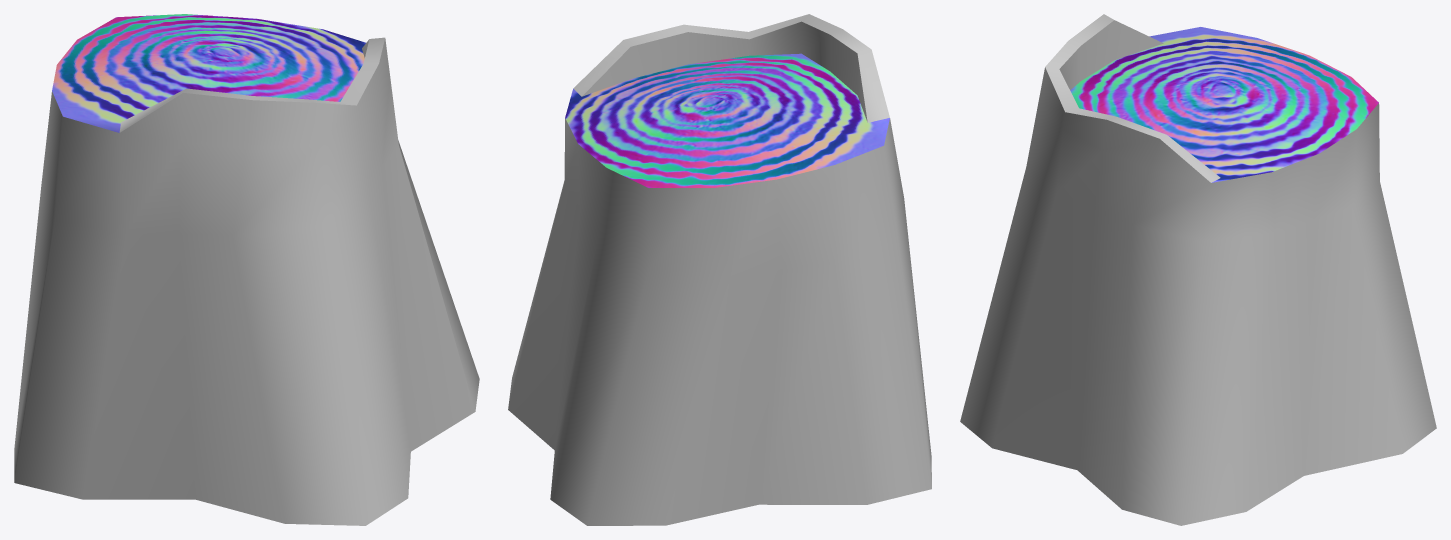
Rendered from sm_tree_01_stump.fbx.
The picture shows the model from 3 angles, left to right: view 1: azimuth 30°, elevation 25°; view 2: azimuth 150°, elevation 25°; view 3: azimuth 270°, elevation 25°; orthographic projection. The views are drawn at different scales.
Visible parts, largest first — view 1: sm_tree_01_stump; view 2: sm_tree_01_stump; view 3: sm_tree_01_stump.
Boxes of the visible parts, x1=… form: sm_tree_01_stump: x1=14, y1=14, x2=479, y2=525; sm_tree_01_stump: x1=508, y1=14, x2=931, y2=525; sm_tree_01_stump: x1=960, y1=14, x2=1436, y2=525.
Bounding box in the file's own units: 119 × 99.56 × 119.
